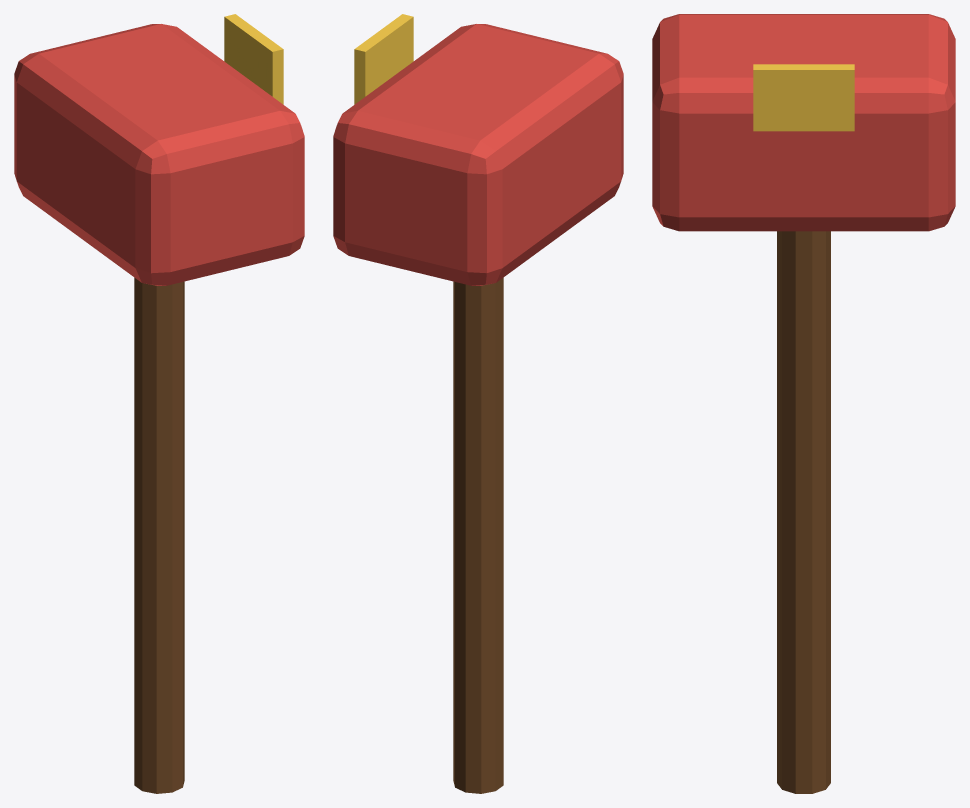
File: Bike_Mailbox.fbx
3 renders of one model, left to right at view 1: azimuth 30°, elevation 25°; view 2: azimuth 150°, elevation 25°; view 3: azimuth 270°, elevation 25°, orthographic. The views are drawn at different scales.
Visible parts, largest first — view 1: Mailbox; view 2: Mailbox; view 3: Mailbox.
Boxes of the visible parts, x1,y1,x2,y2 form: Mailbox: (14, 14, 304, 793); Mailbox: (333, 14, 623, 793); Mailbox: (652, 14, 955, 793).
Size of the model in its own units: 0.33 by 1.25 by 0.45.
